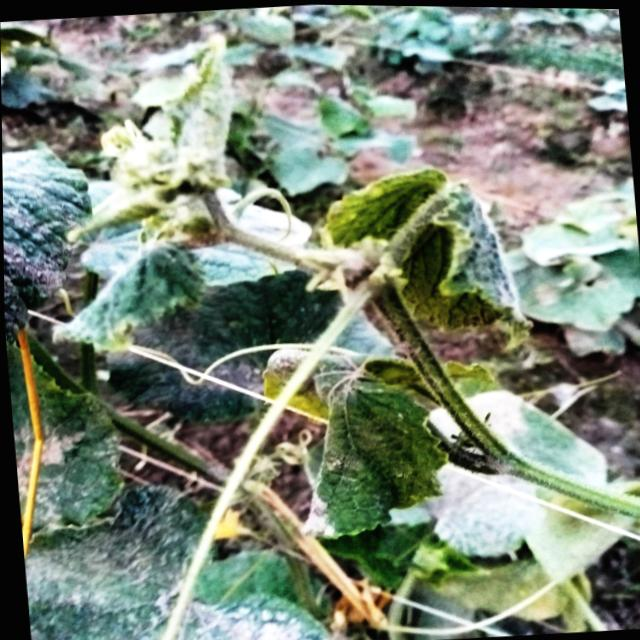Bacterial-Wilt: (321, 164, 533, 356)
